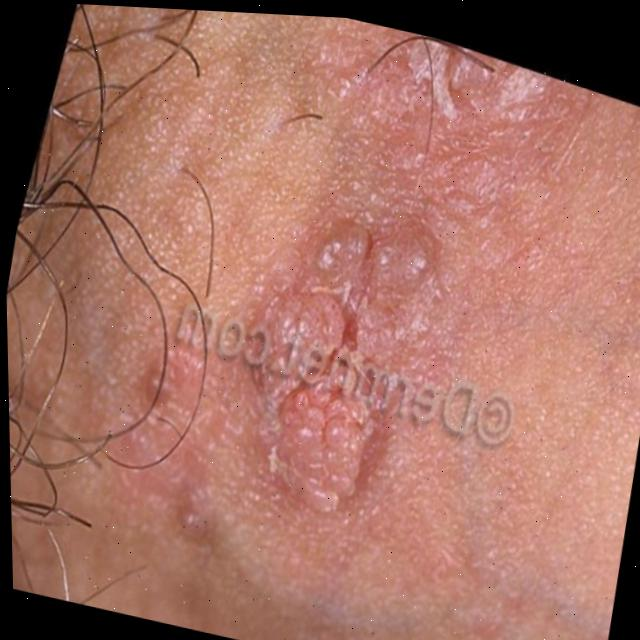Shingles: (241, 186, 436, 546), (420, 53, 493, 131)
